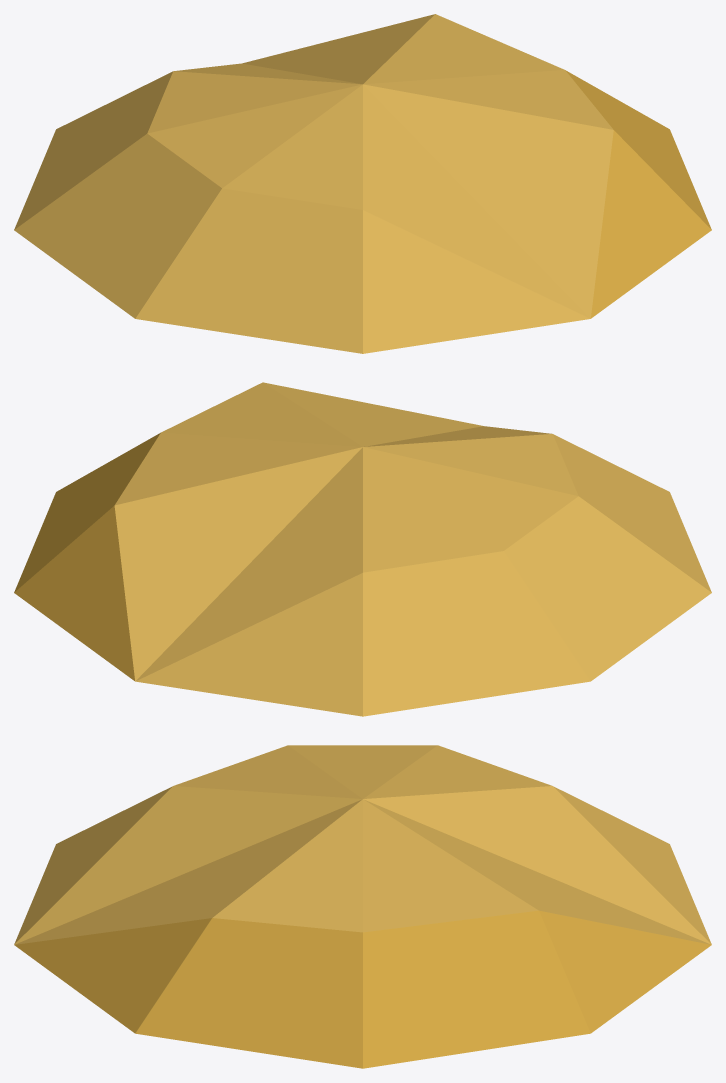
Rendered from sun.fbx.
3 views of the same model, one above another, from view 1: azimuth 30°, elevation 25°; view 2: azimuth 150°, elevation 25°; view 3: azimuth 270°, elevation 25° (orthographic).
Parts seen in each view (by area): view 1: sun; view 2: sun; view 3: sun.
Part boxes in pixels (<box>): sun: <box>14,14,711,353</box>; sun: <box>14,382,711,716</box>; sun: <box>14,745,711,1068</box>.
Bounding box in the file's own units: 184 × 35.49 × 187.
